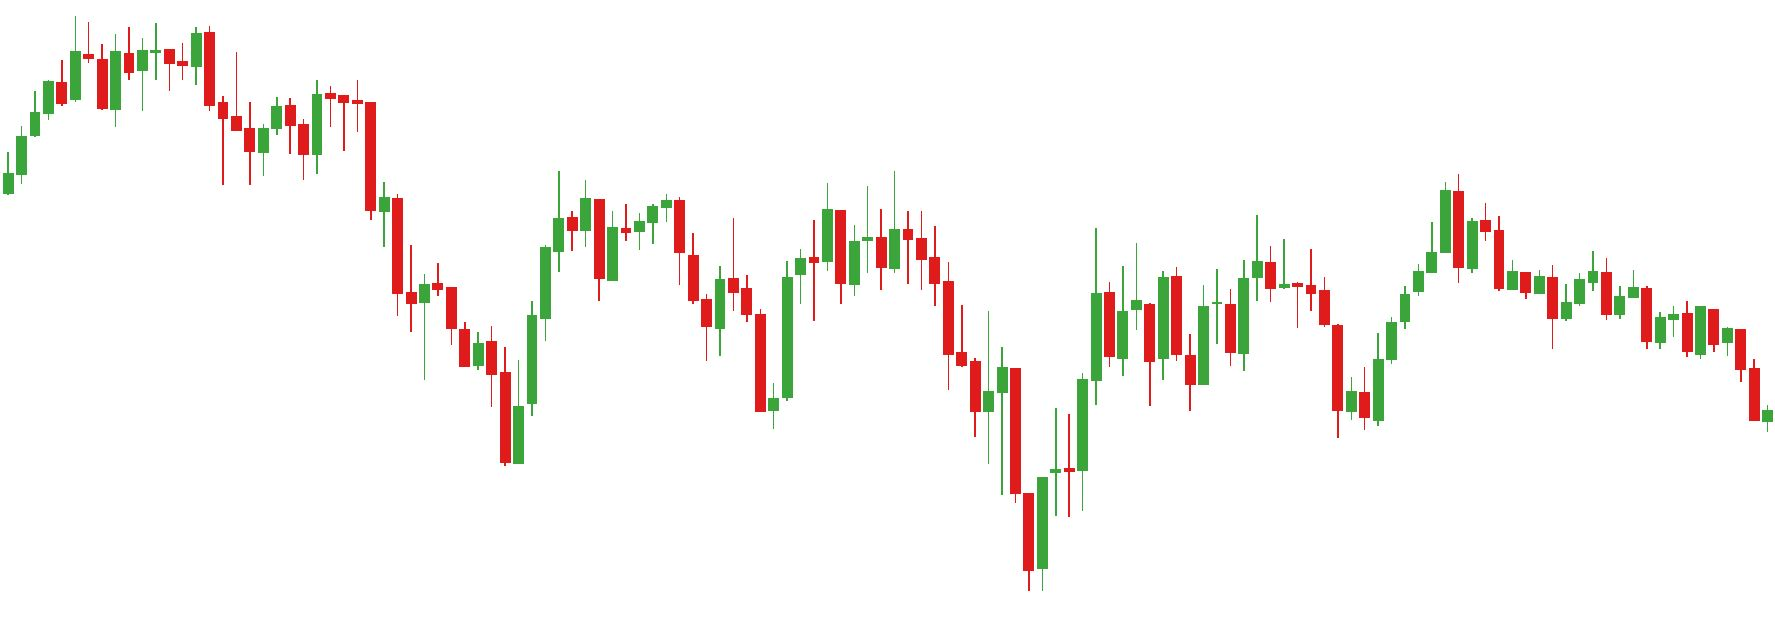buy: (1180, 281, 1360, 440)
